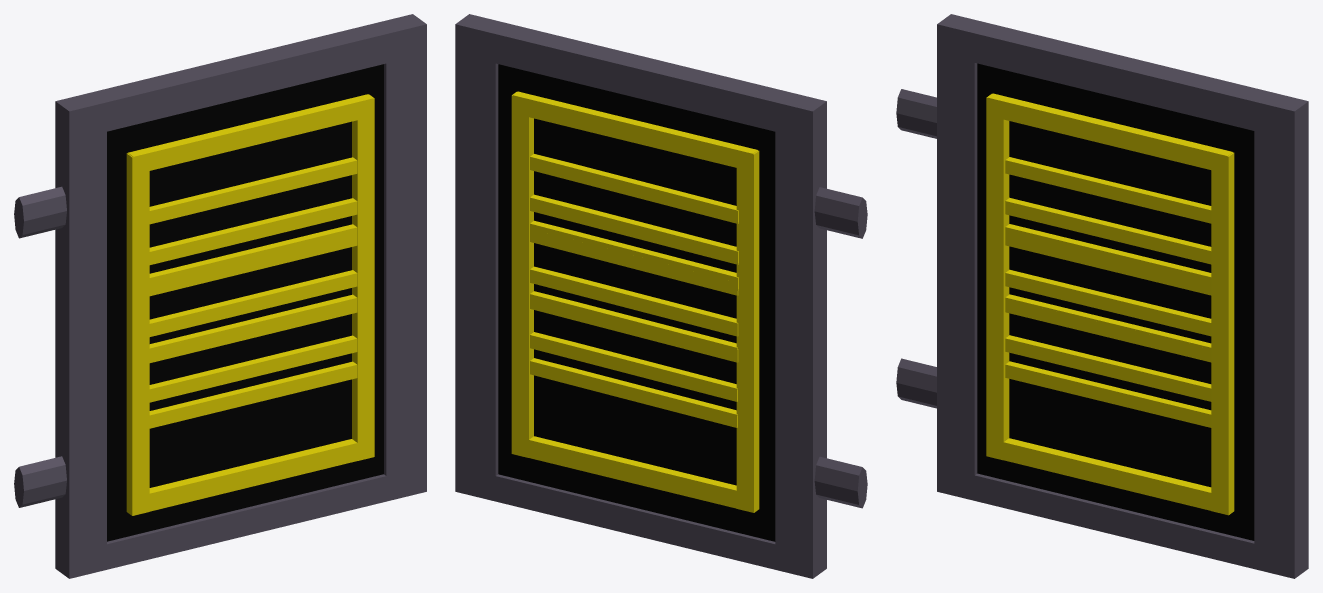
The model's file is Neon_Horizontal_Lines_large.fbx.
The picture shows the model from 3 angles, left to right: view 1: azimuth 30°, elevation 25°; view 2: azimuth 150°, elevation 25°; view 3: azimuth 330°, elevation 25°; orthographic projection.
Visible parts, largest first — view 1: NeonSign_Large5, Neon_Horizontal_Lines_large; view 2: NeonSign_Large5, Neon_Horizontal_Lines_large; view 3: NeonSign_Large5, Neon_Horizontal_Lines_large.
Part boxes in pixels (x1,y1,x2,y2): NeonSign_Large5: (14, 14, 426, 578); Neon_Horizontal_Lines_large: (126, 94, 374, 515); NeonSign_Large5: (455, 14, 867, 578); Neon_Horizontal_Lines_large: (511, 91, 759, 512); NeonSign_Large5: (896, 14, 1308, 578); Neon_Horizontal_Lines_large: (986, 93, 1234, 515).
Bounding box in the file's own units: 3.31 × 3.69 × 0.3462.
